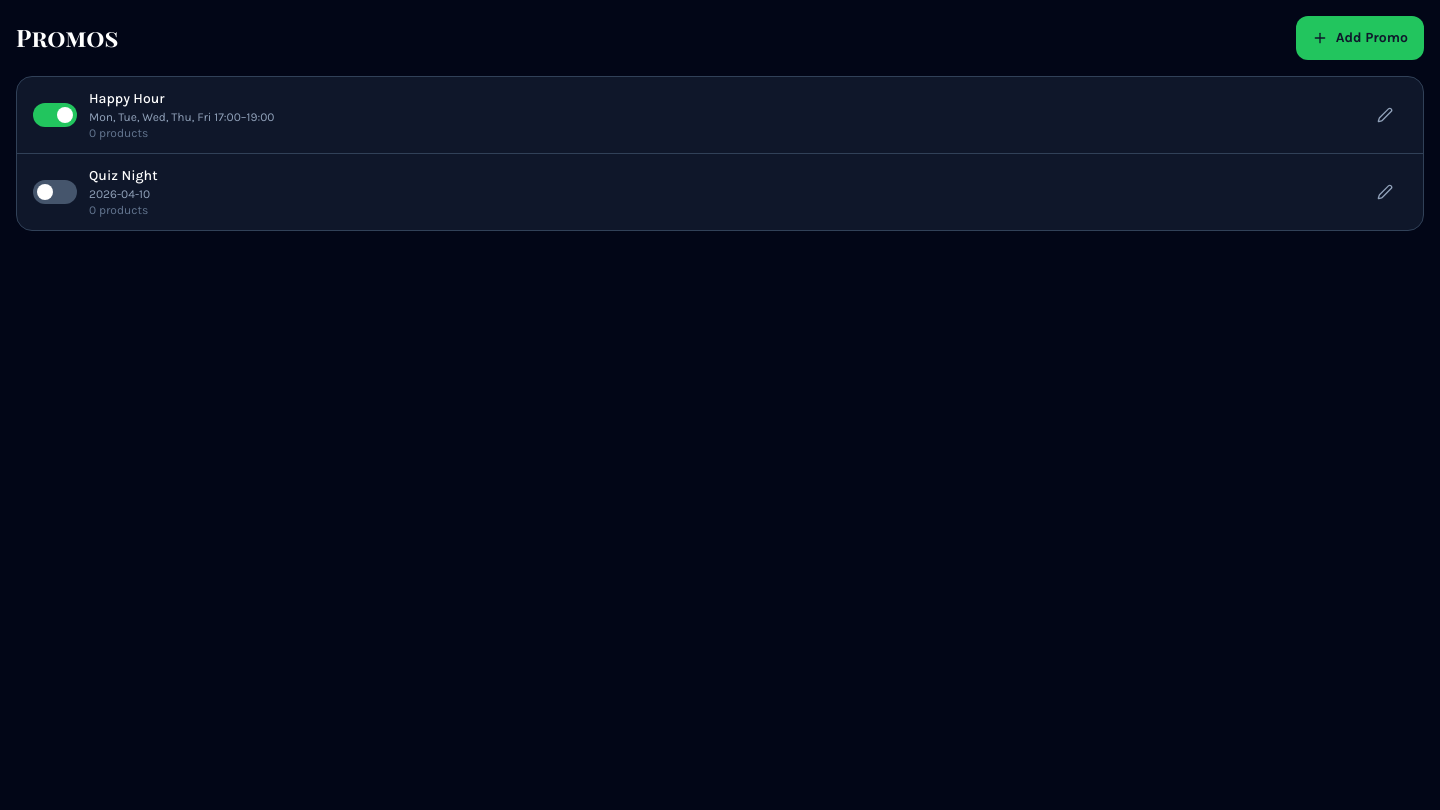
Test: PromosPage › opens the edit modal when an edit button is clicked
Click the button named "edit": {"x": 1385, "y": 115} [1363,93,1407,137]
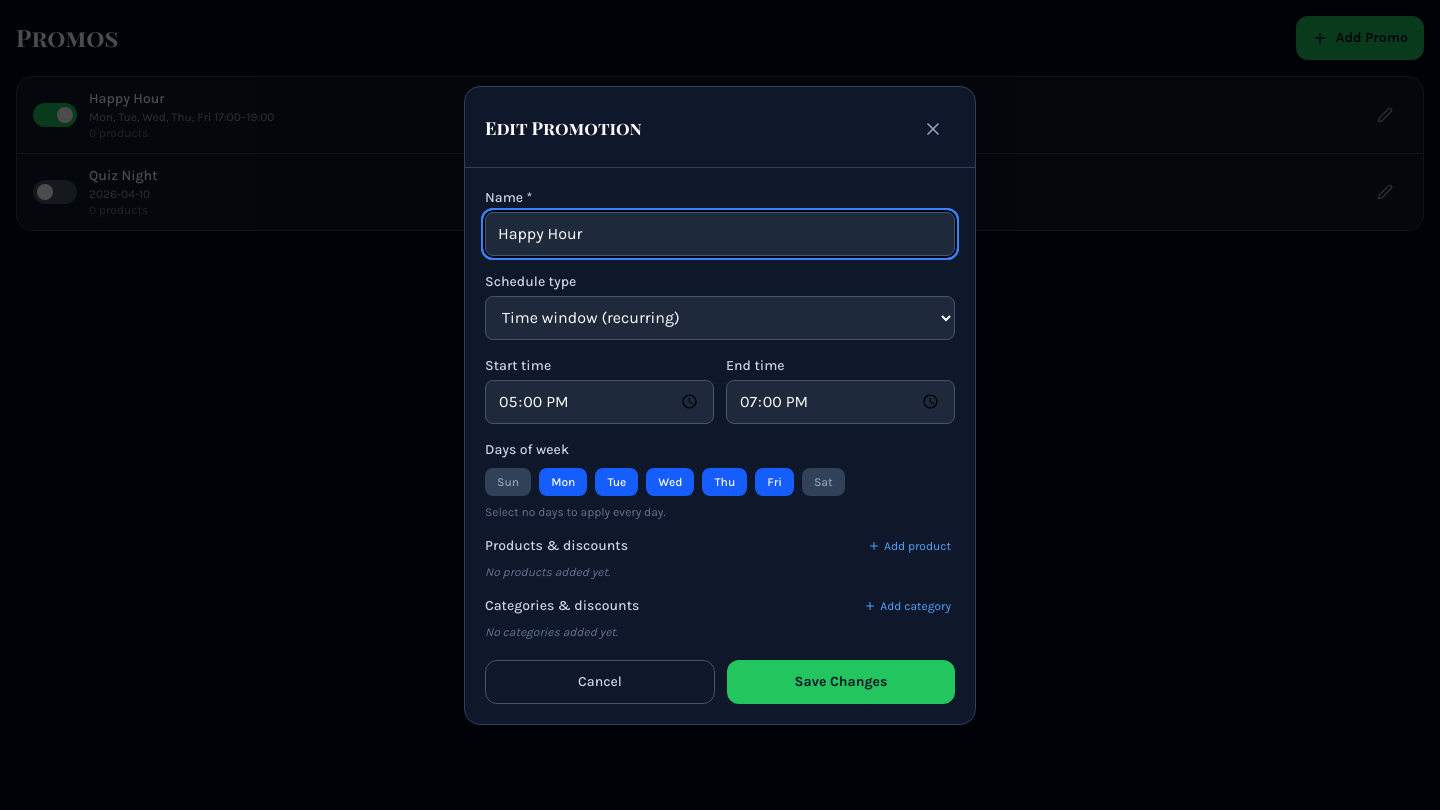
Expected: the dialog is shown, [464,86,976,724]
